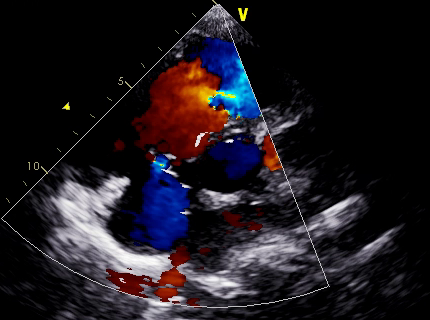TR: (129, 119, 201, 204)
